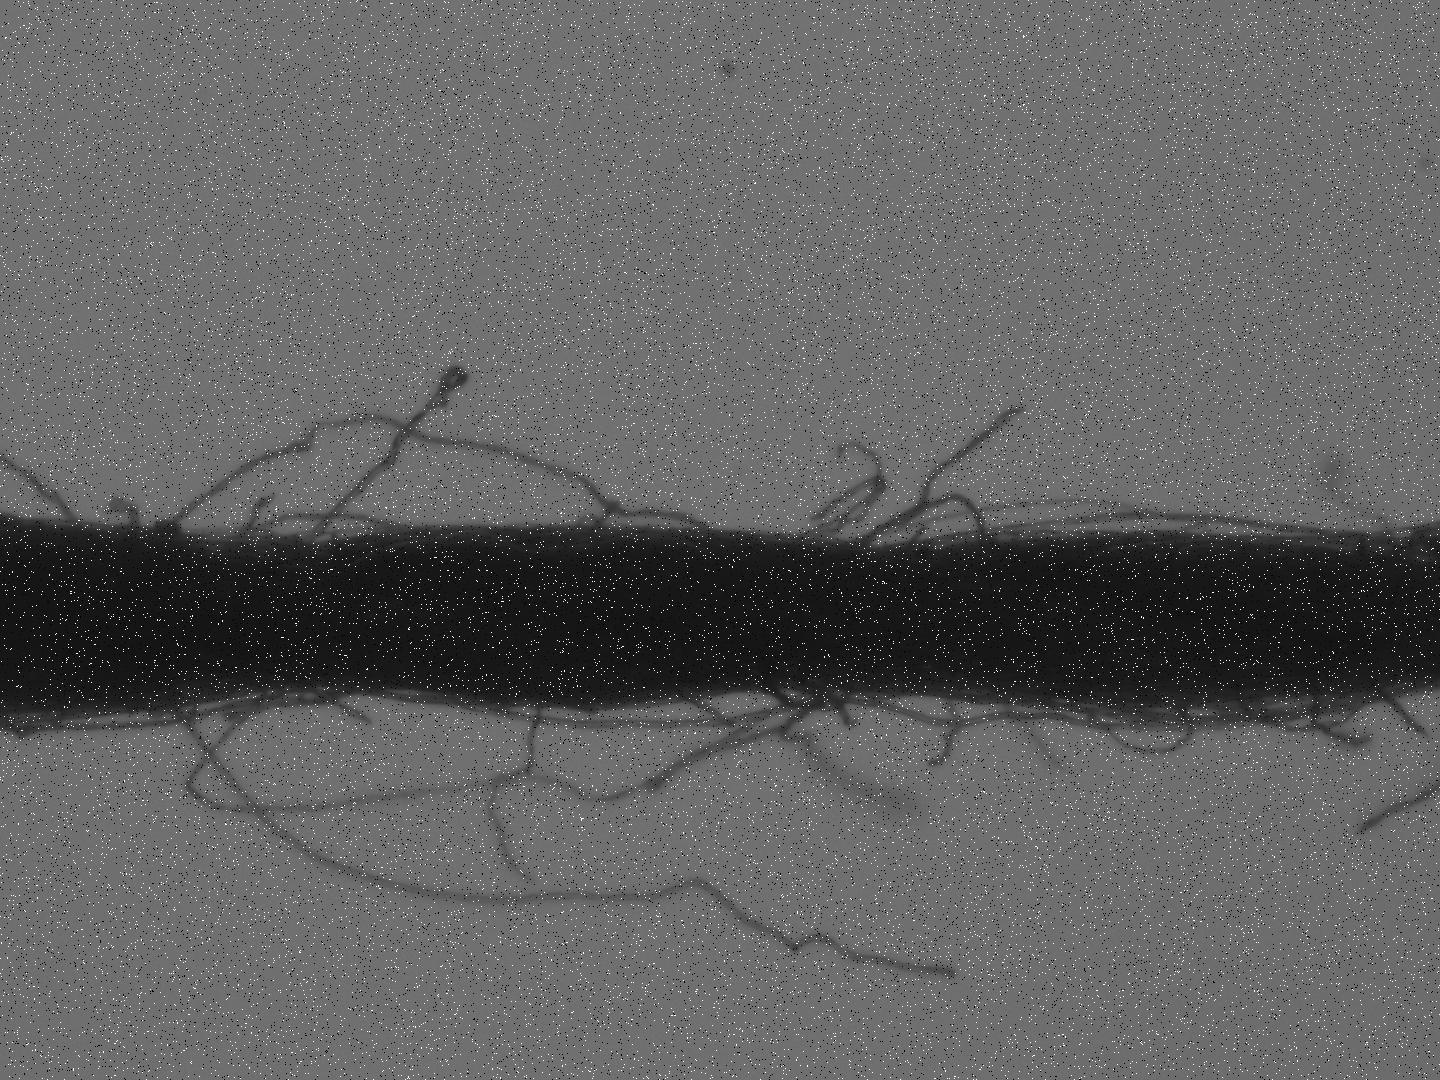loop_fiber: (143, 408, 714, 560), (819, 689, 1147, 729), (476, 692, 783, 732), (832, 490, 989, 563), (1058, 683, 1201, 760), (1226, 669, 1371, 740), (237, 505, 409, 550), (749, 663, 852, 715), (362, 684, 509, 711)
protruding_fiber: (156, 700, 959, 984), (302, 366, 460, 542)
